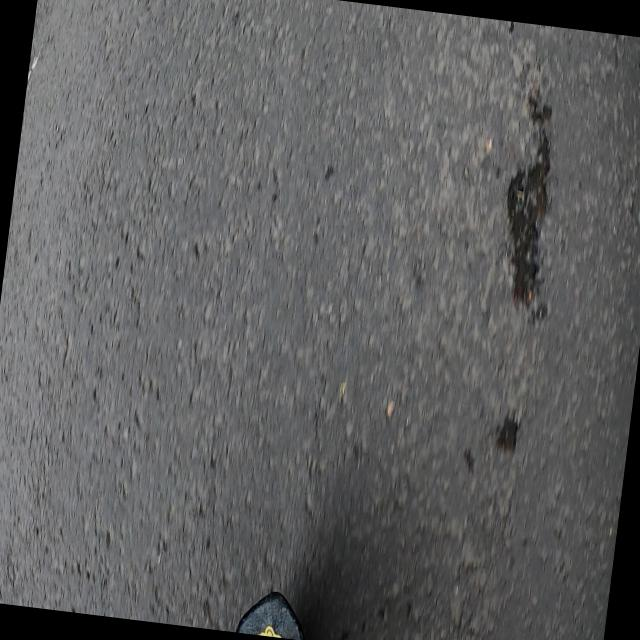Lubang: (507, 95, 551, 305), (496, 415, 517, 451)
